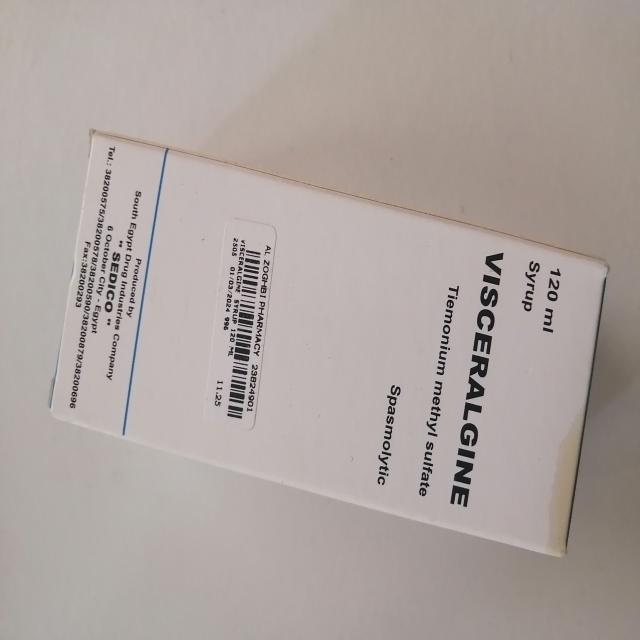Medicine: (45, 125, 612, 562)
